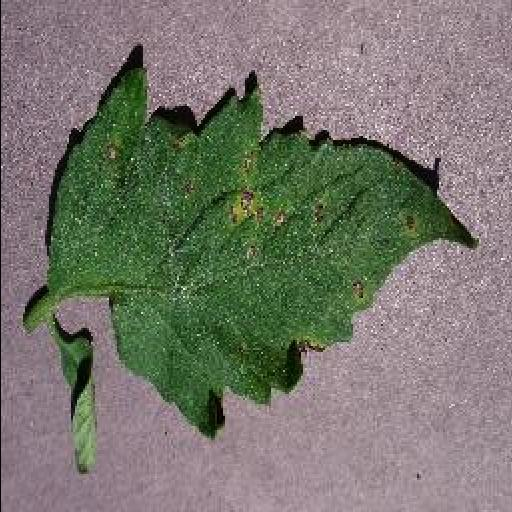disease_tomato: (46, 56, 478, 438)
